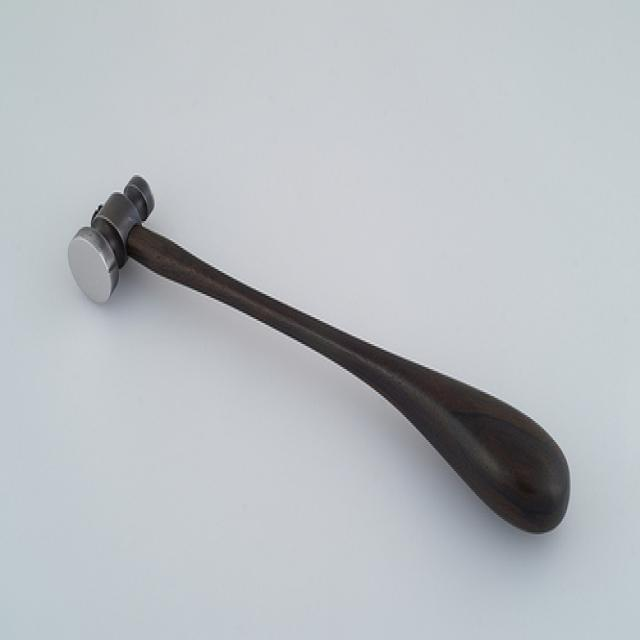hammer: (54, 112, 363, 358)
